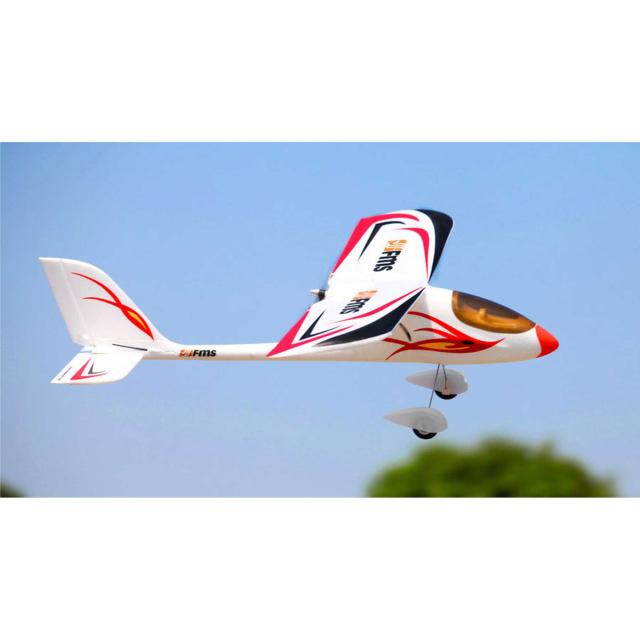iha: (34, 209, 563, 440)
